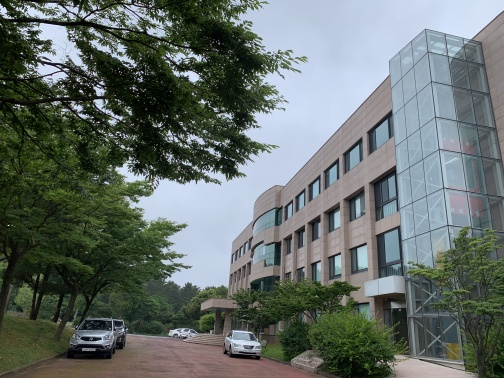Joint Experimental Labs: (279, 30, 496, 370), (196, 181, 293, 345)
